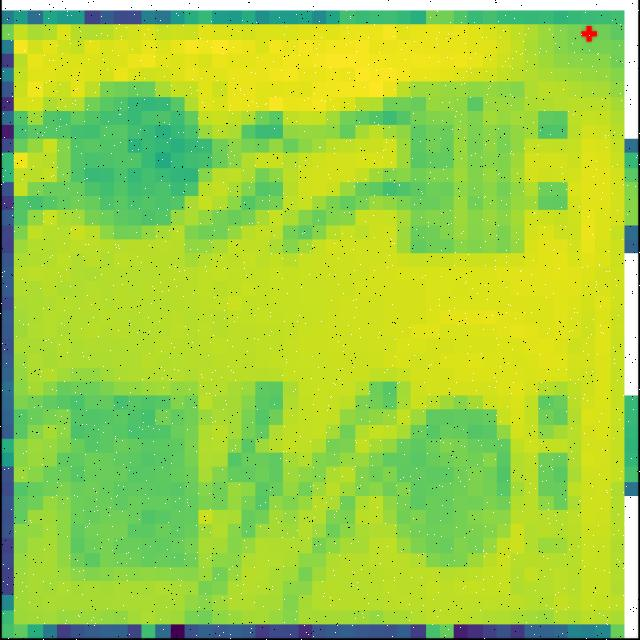Concrete: (394, 80, 527, 256)
Glass: (76, 77, 212, 248)
Metal: (385, 402, 519, 570)
Wood: (67, 382, 198, 571)
